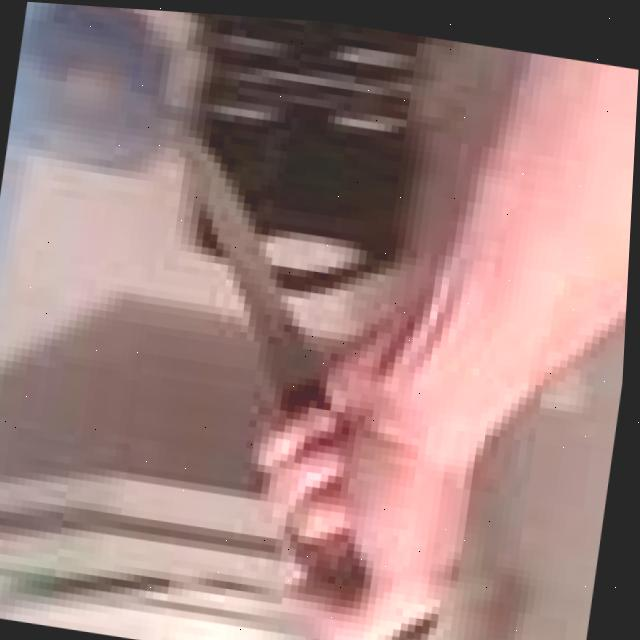knife: (131, 139, 383, 419)
